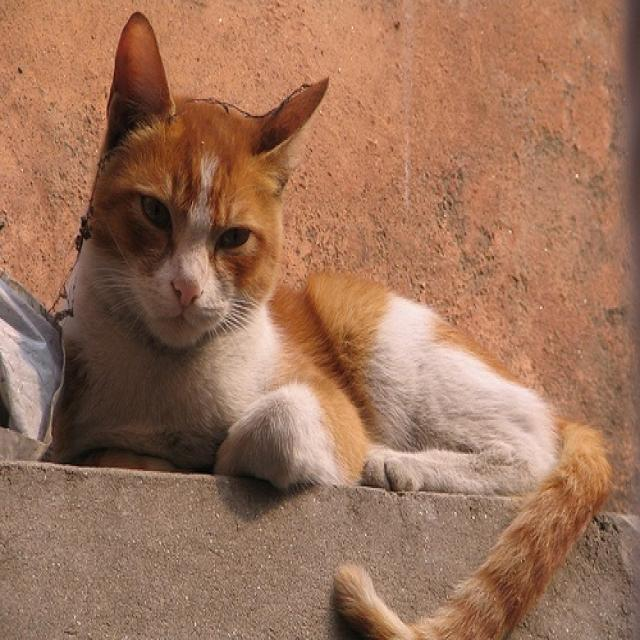cat: (49, 12, 606, 638)
